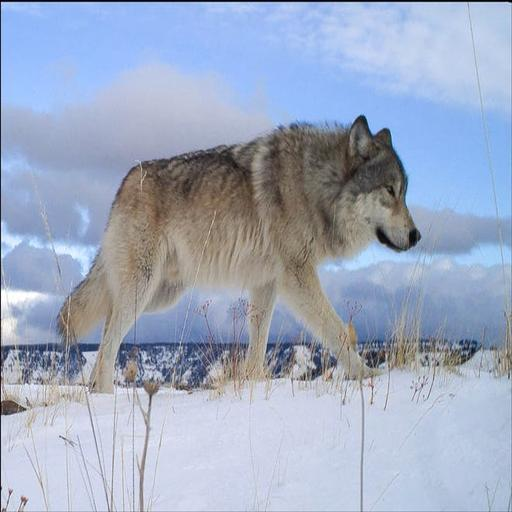Wolf: (55, 108, 432, 396)
